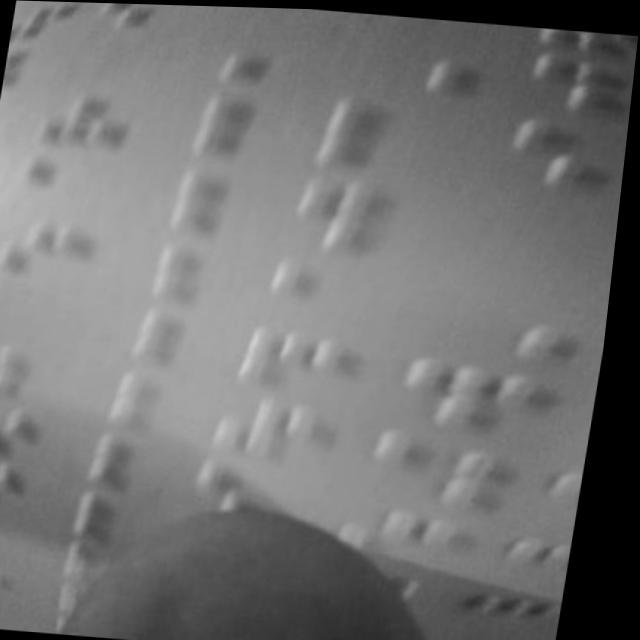braiile: (400, 349, 555, 436), (365, 426, 524, 509), (291, 179, 435, 259), (235, 321, 378, 399), (210, 390, 349, 466), (268, 255, 405, 327), (506, 111, 631, 187), (24, 90, 145, 159), (0, 215, 108, 280), (10, 155, 123, 210), (85, 2, 186, 40)
